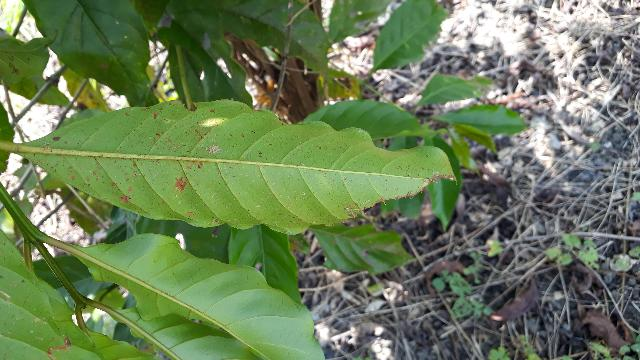red_spider_mite: (185, 124, 621, 260)
